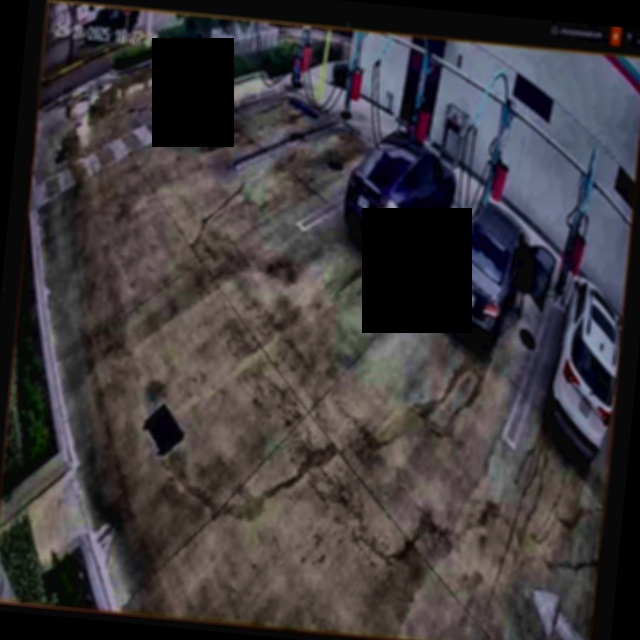Car: (438, 199, 560, 339), (338, 126, 462, 257)
